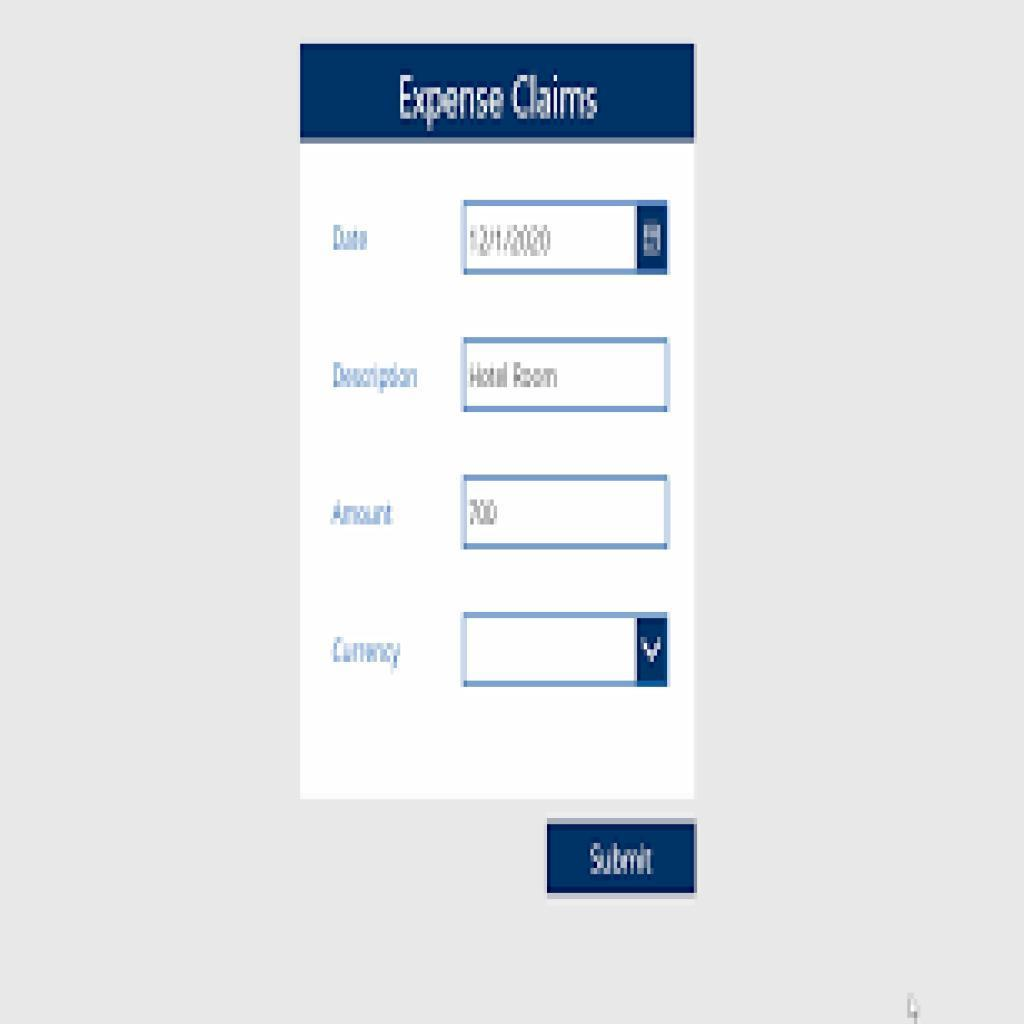button: (547, 823, 698, 895)
dropdown: (463, 612, 669, 684)
input: (465, 477, 669, 547), (466, 204, 669, 272), (463, 339, 666, 407)
label: (325, 357, 424, 393), (330, 632, 401, 674), (330, 496, 398, 535), (326, 221, 373, 257)
